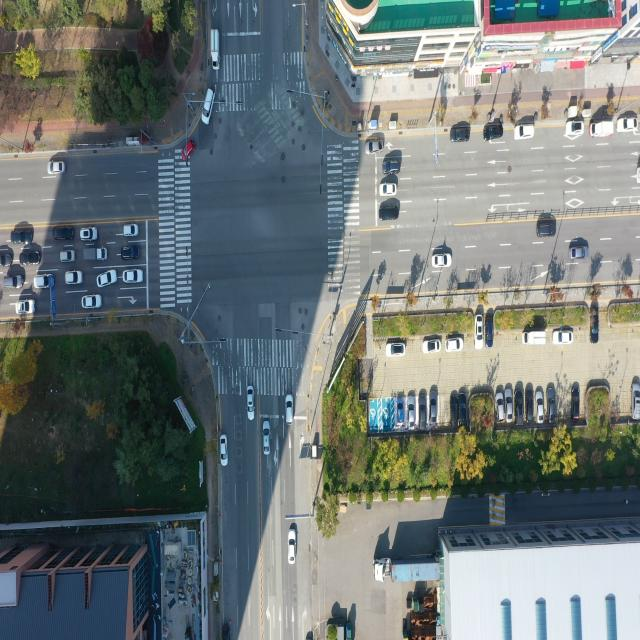car: (202, 88, 215, 125), (288, 524, 297, 564), (617, 116, 639, 132), (569, 386, 580, 418), (589, 305, 598, 343), (474, 313, 483, 349), (99, 272, 118, 288), (632, 381, 640, 419), (431, 253, 451, 268), (515, 126, 535, 141), (553, 331, 573, 346), (11, 232, 32, 246), (566, 119, 584, 135), (84, 294, 103, 309), (125, 271, 144, 286), (21, 251, 41, 265), (386, 344, 406, 358), (429, 391, 437, 426), (419, 393, 427, 428), (34, 275, 52, 290), (422, 340, 440, 355), (55, 228, 74, 242), (485, 128, 504, 142), (263, 421, 271, 454), (504, 388, 512, 421), (486, 315, 494, 348), (450, 393, 458, 426), (408, 396, 416, 428), (526, 391, 534, 423), (219, 436, 227, 468), (458, 390, 466, 422), (48, 162, 65, 177), (447, 338, 464, 353), (381, 208, 399, 222), (537, 223, 555, 237), (555, 327, 573, 341), (516, 388, 524, 419), (451, 131, 470, 144), (247, 386, 254, 421), (183, 138, 194, 160), (285, 396, 293, 426), (535, 390, 543, 420), (367, 140, 384, 154), (496, 390, 503, 423), (66, 272, 82, 286), (18, 302, 34, 316), (80, 230, 97, 243), (4, 276, 21, 289), (383, 162, 400, 175), (124, 247, 140, 260), (124, 223, 140, 236), (381, 182, 397, 195), (570, 247, 586, 260), (545, 386, 552, 414), (396, 396, 403, 423), (62, 250, 76, 262), (220, 622, 229, 640), (0, 253, 12, 266)
large_truck: (372, 556, 442, 585)
small_truck: (210, 27, 220, 69), (591, 122, 615, 138), (522, 332, 546, 348), (84, 248, 110, 262)
